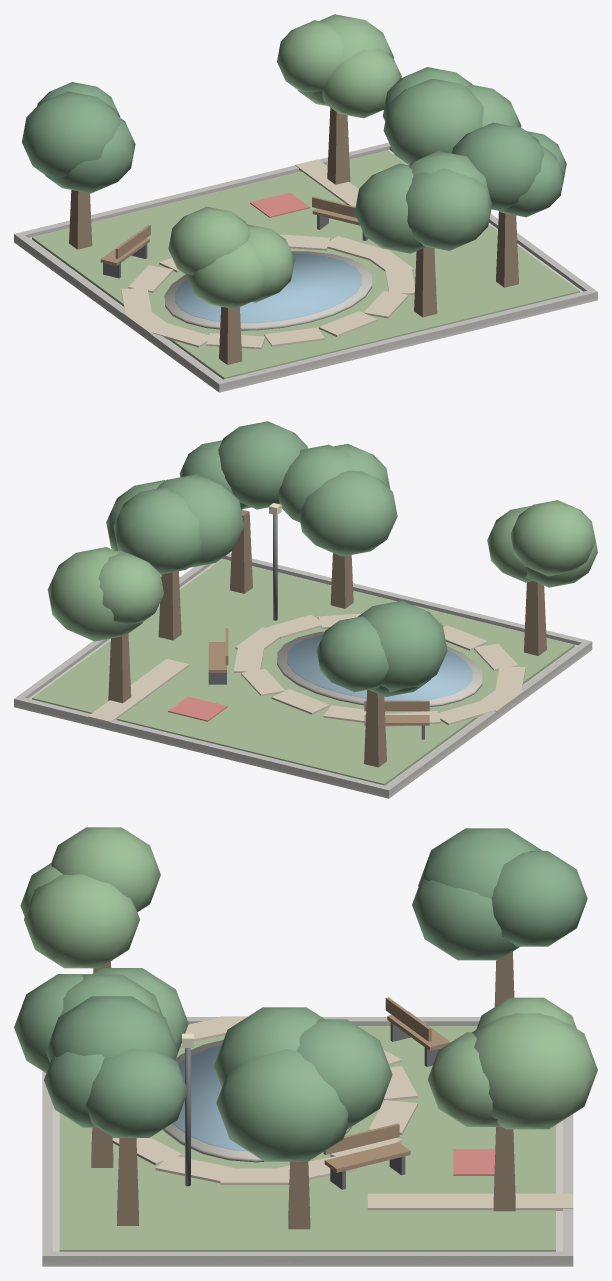
Rendered from mapa.parque.fbx.
3 renders of one model, top to bottom at view 1: azimuth 30°, elevation 25°; view 2: azimuth 150°, elevation 25°; view 3: azimuth 270°, elevation 25°, orthographic. The views are drawn at different scales.
Visible parts, largest first — view 1: Pasto, Copa.004, Copa.010, Laguna, Copa.012, Copa.002, Copa.014, Solera.001, Copa.006, Copa.017, Copa.008, Copa.015 (+32 smaller); view 2: Pasto, Copa.014, Copa.003, Copa.002, Copa.010, Copa.017, Copa.007, Copa.009, Copa.004, Solera, Copa.008, Laguna (+34 smaller); view 3: Pasto, Copa.007, Copa.005, Copa.016, Copa.009, Copa.001, Solera.002, Copa.003, Copa.002, Copa.011, Copa.017, Copa.010 (+32 smaller).
Boxes of the visible parts, x1,y1,x2,y2 form: Pasto: (32,150,579,379); Copa.004: (383,78,483,164); Copa.010: (22,91,120,177); Laguna: (175,253,362,323); Copa.012: (406,168,492,250); Copa.002: (452,122,544,211); Copa.014: (354,163,426,253); Solera.001: (215,291,597,390); Copa.006: (322,49,401,118); Copa.017: (168,206,249,275); Copa.008: (277,20,343,92); Copa.015: (186,241,264,309); Pasto: (32,559,574,785); Copa.014: (299,470,397,556); Copa.003: (113,487,201,574); Copa.002: (218,421,307,509); Copa.010: (358,600,447,692); Copa.017: (510,500,595,576); Copa.007: (47,547,142,641); Copa.009: (316,616,388,692); Copa.004: (157,474,243,567); Solera: (14,698,392,795); Copa.008: (98,552,163,624); Laguna: (287,634,472,700); Pasto: (59,1026,555,1251); Copa.007: (472,1013,597,1129); Copa.005: (216,1049,348,1161); Copa.016: (24,874,139,968); Copa.009: (491,851,587,946); Copa.001: (86,1048,187,1137); Solera.002: (42,1251,573,1263); Copa.003: (296,1019,392,1129); Copa.002: (46,996,177,1062); Copa.011: (412,879,519,960); Copa.017: (51,827,160,911); Copa.010: (418,828,542,898).
Size of the model in its own units: 3.56 by 1.42 by 3.41.
